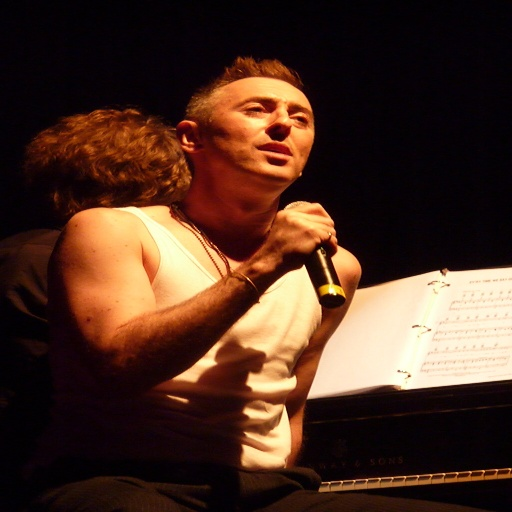hand: (244, 202, 350, 288)
